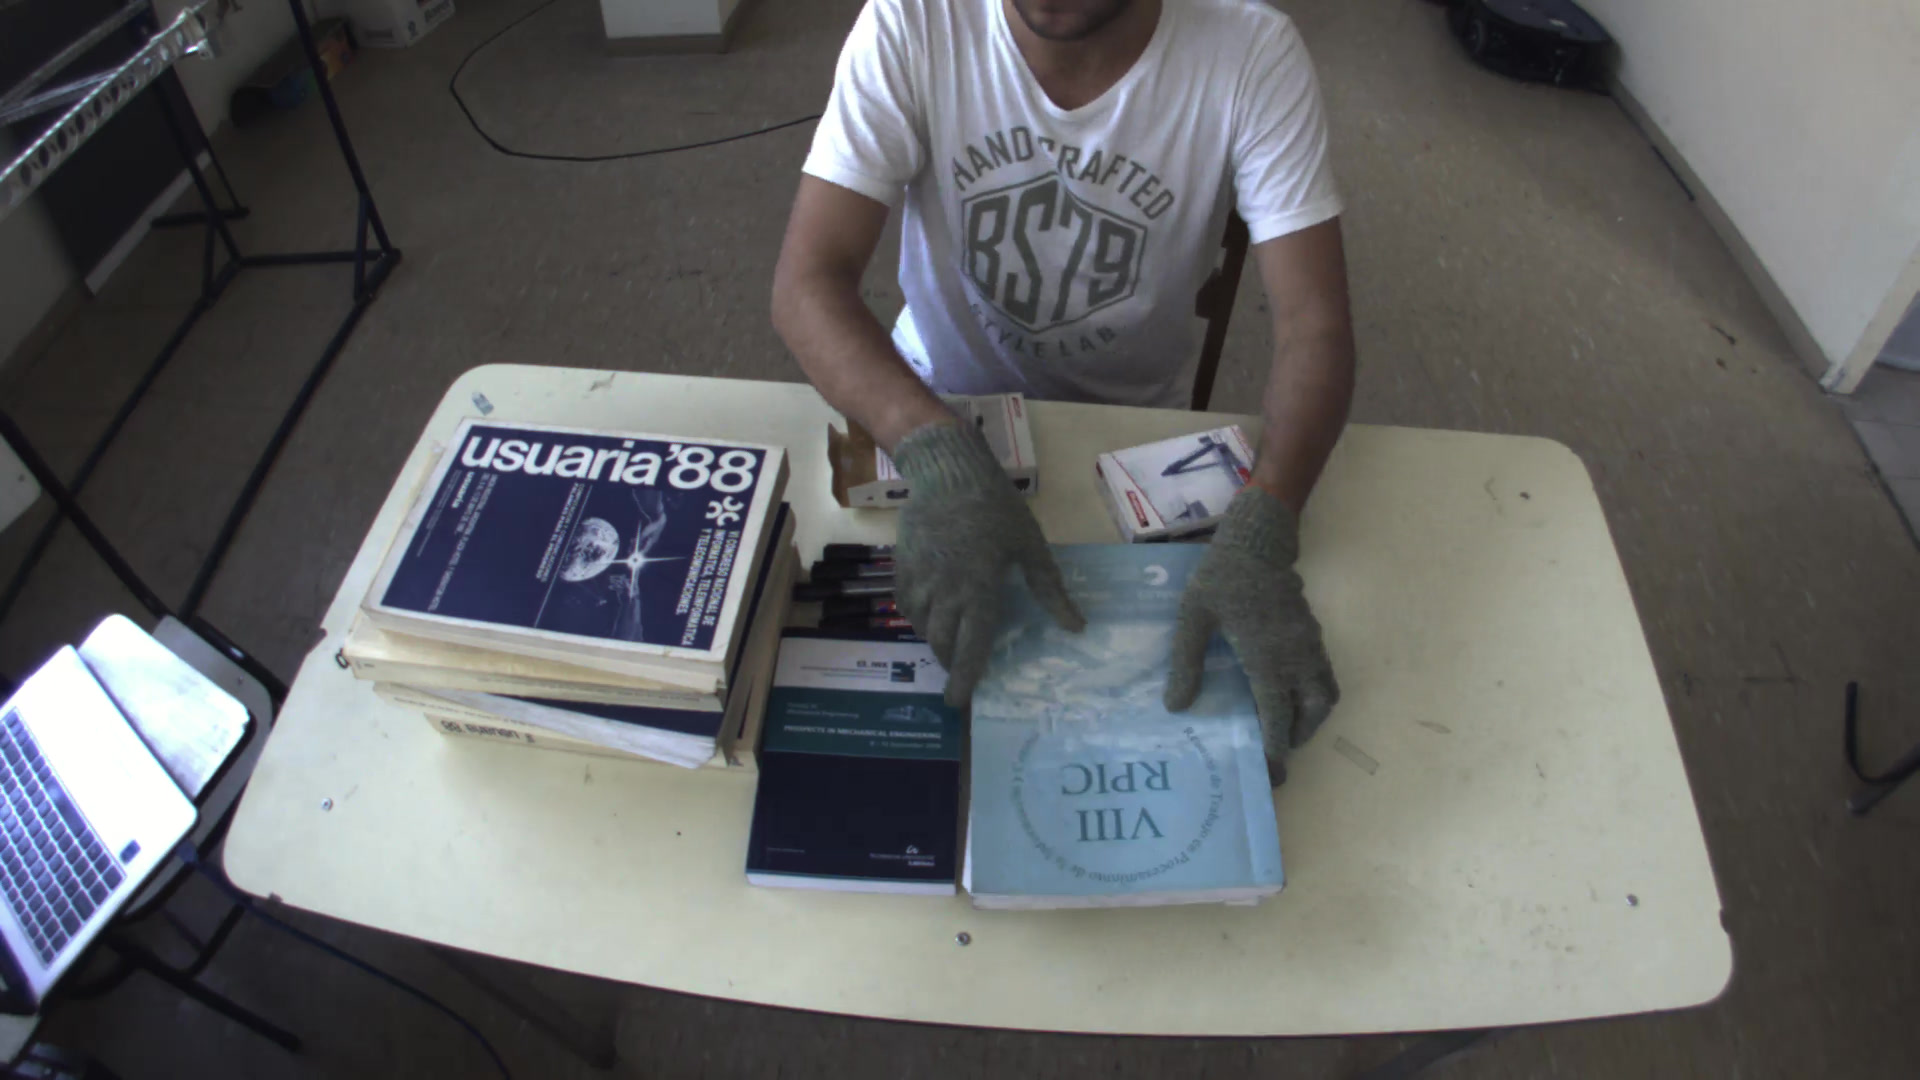hand: (874, 414, 1095, 673), (1162, 477, 1356, 760)
